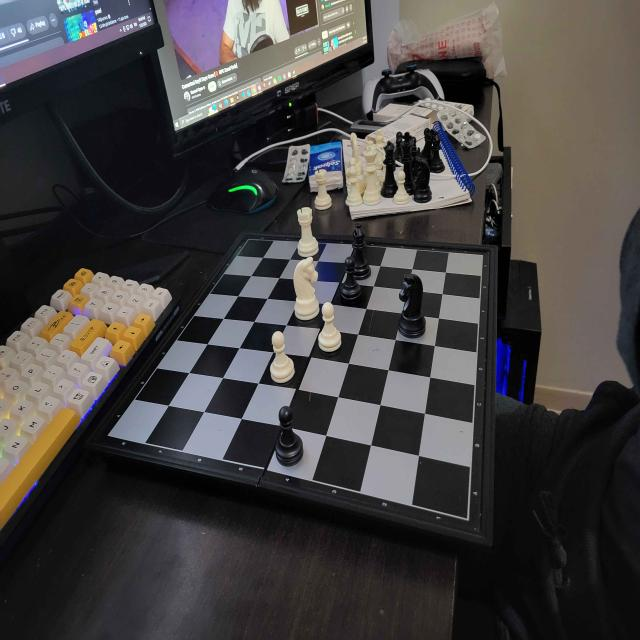black-bishop: (352, 222, 372, 278)
black-knight: (398, 271, 427, 340)
black-pawn: (274, 404, 304, 468), (339, 254, 361, 302)
chess-board: (119, 236, 493, 536)
white-pawn: (316, 300, 344, 360), (268, 329, 296, 387)
white-rook: (296, 207, 320, 257), (313, 168, 332, 210)
